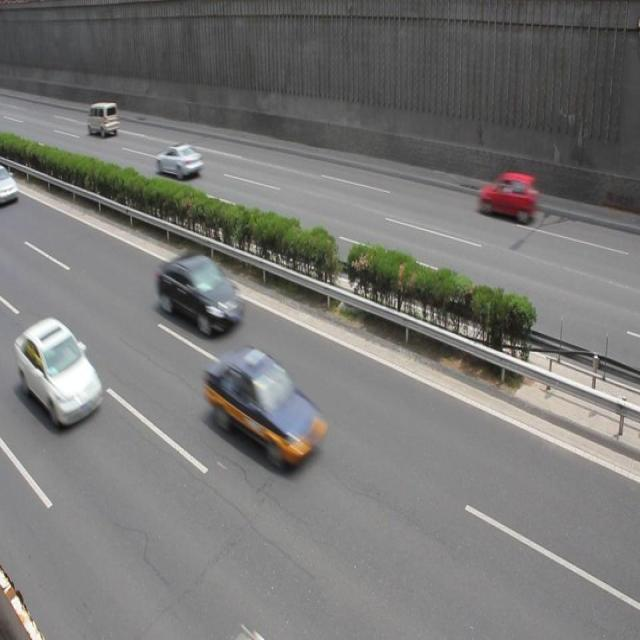car: (205, 344, 330, 471), (16, 316, 104, 429), (157, 250, 246, 338), (476, 170, 538, 222), (156, 142, 203, 178), (0, 168, 18, 204)
truck: (88, 102, 120, 137)
